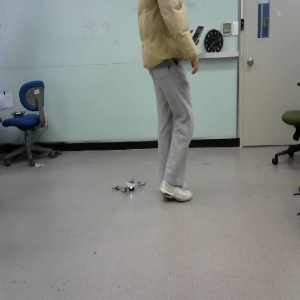Drone: (110, 178, 145, 196)
